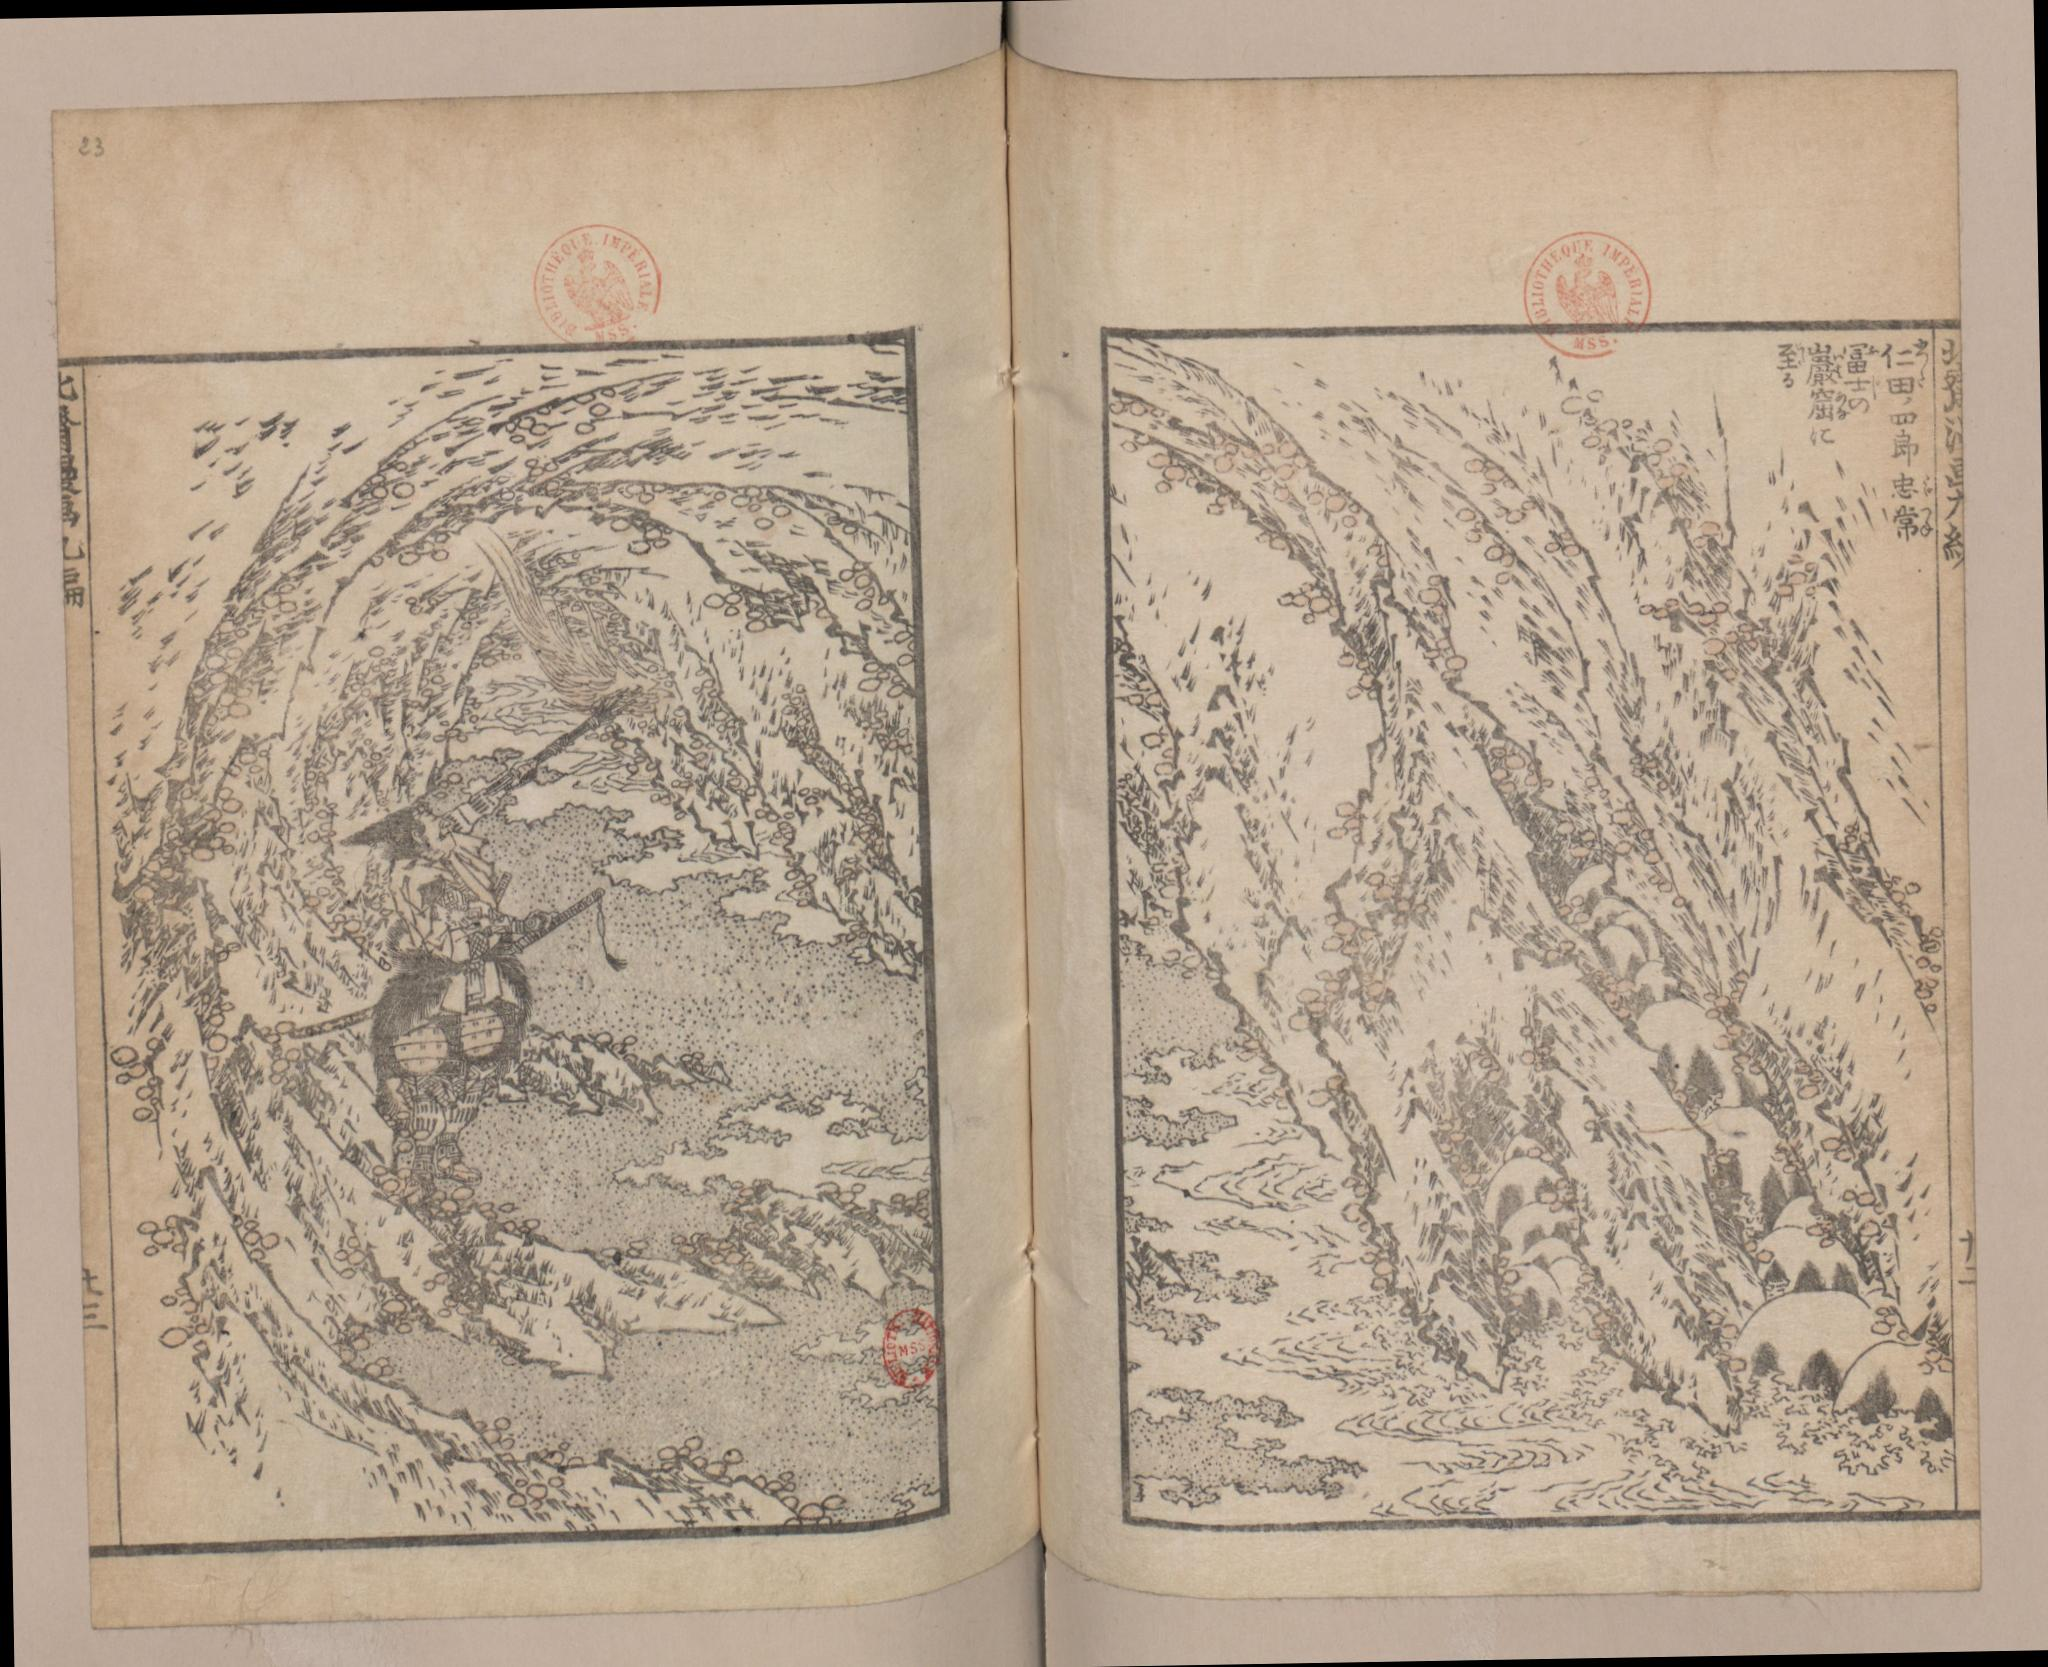MainZone-Character: (1886, 500, 1937, 541), (1883, 337, 1931, 369), (1842, 335, 1880, 374), (1886, 473, 1936, 502), (1806, 388, 1847, 420), (1808, 359, 1844, 388), (1805, 337, 1842, 362), (1888, 373, 1927, 395), (1776, 342, 1803, 367)
MainZone-Ruby: (1915, 504, 1934, 539), (1914, 339, 1932, 367), (1920, 473, 1934, 497), (1835, 390, 1846, 420), (1795, 344, 1803, 366), (1915, 373, 1927, 388), (1864, 340, 1874, 357), (1834, 362, 1842, 376), (1834, 349, 1842, 362)
